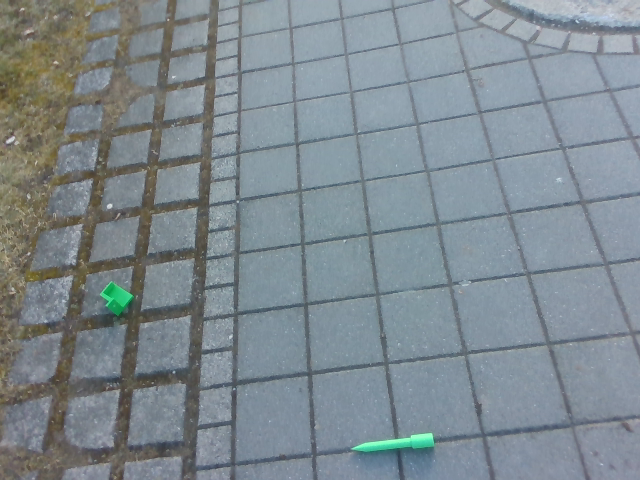Probe: (345, 429, 438, 460)
